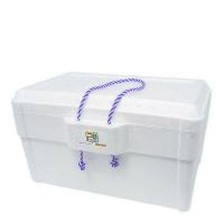foam_box: (4, 63, 215, 215)
